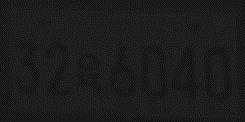0: (204, 45, 240, 107), (140, 47, 170, 102)
2: (39, 44, 74, 102)
3: (4, 38, 40, 100)
4: (171, 45, 205, 105)
6: (106, 46, 139, 98)
육: (76, 46, 104, 98)
